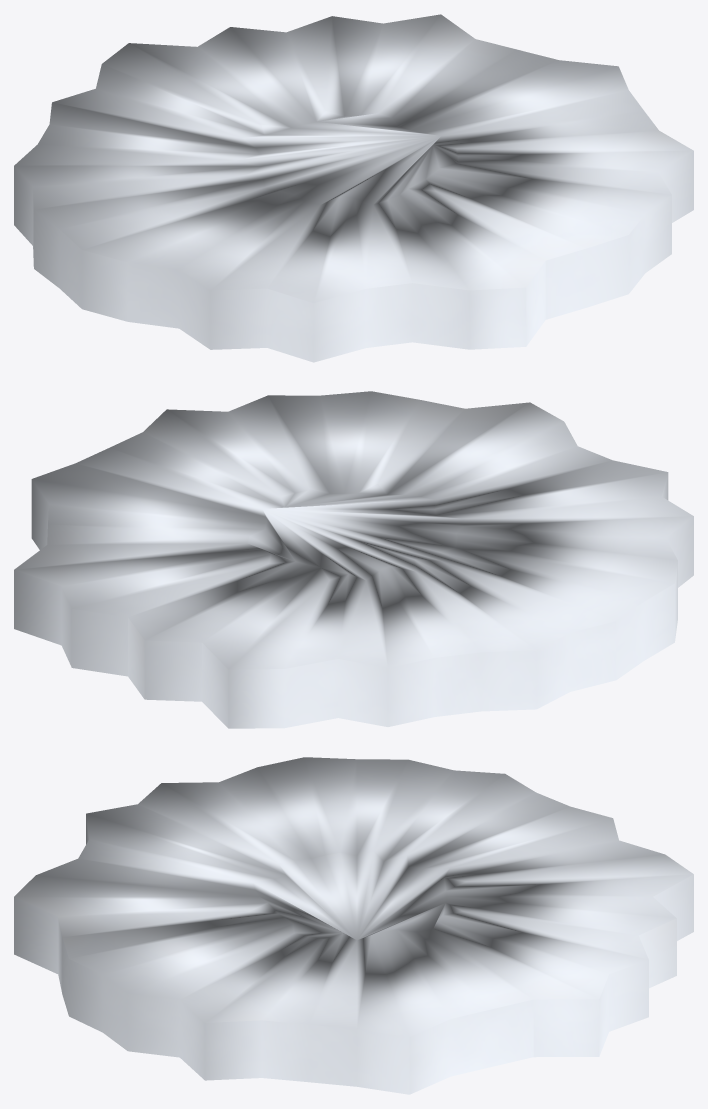
The model's file is ice_hole_floe.fbx.
The picture shows the model from 3 angles, top to bottom: view 1: azimuth 30°, elevation 25°; view 2: azimuth 150°, elevation 25°; view 3: azimuth 270°, elevation 25°; orthographic projection. The views are drawn at different scales.
Parts seen in each view (by area): view 1: ice_hole_floe; view 2: ice_hole_floe; view 3: ice_hole_floe.
Part boxes in pixels (x1,y1,x2,y2): ice_hole_floe: (14,14,693,362); ice_hole_floe: (14,391,693,728); ice_hole_floe: (14,757,693,1094).
Size of the model in its own units: 625 by 84 by 642.
